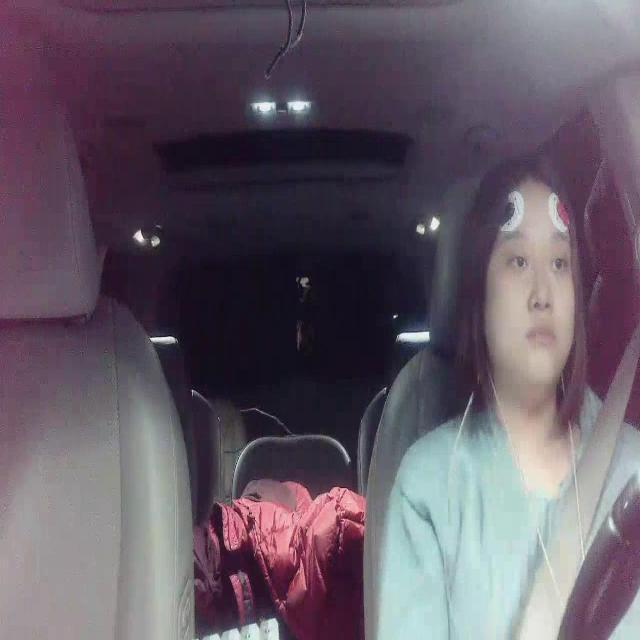Attentive: (472, 158, 584, 385)
